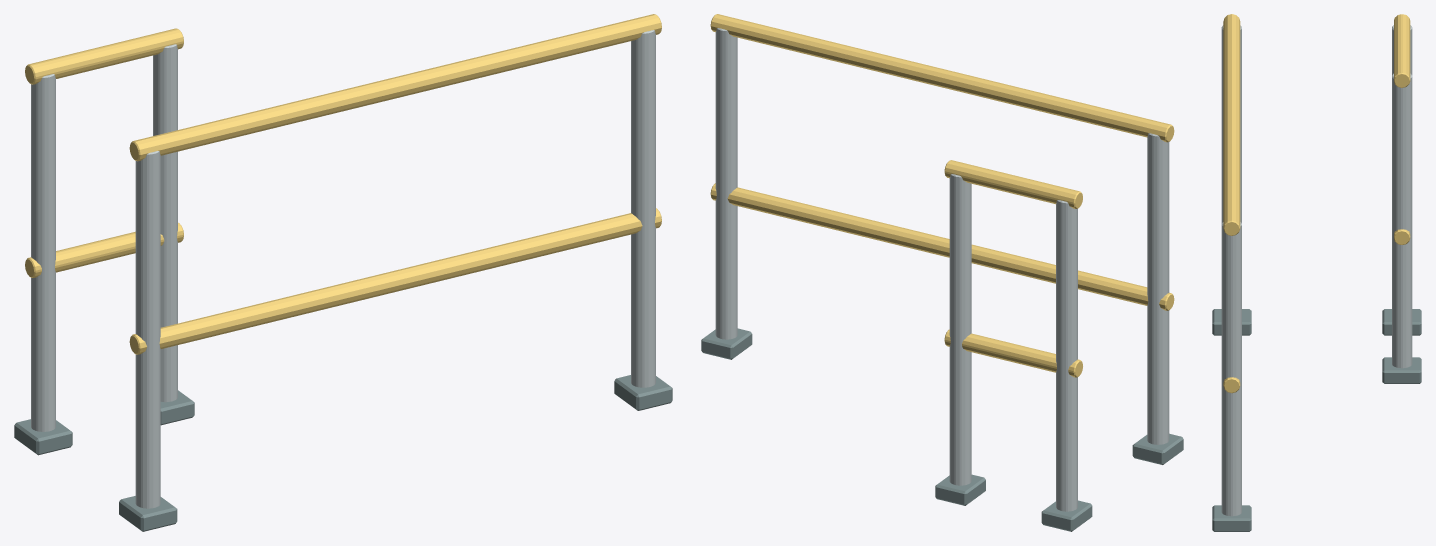
Rendered from Structure-SewerGuardrail.fbx.
3 renders of one model, left to right at view 1: azimuth 30°, elevation 25°; view 2: azimuth 150°, elevation 25°; view 3: azimuth 270°, elevation 25°, orthographic. The views are drawn at different scales.
Visible parts, largest first — view 1: Horizontal Rail.001, Horizontal Rail, Rail Post, Rail Post.002, Rail Post.001, Rail Post.003, Horizontal Rail.003, Horizontal Rail.002, Base Shoe, Base Shoe.001, Base Shoe.002, Base Shoe.003; view 2: Horizontal Rail.001, Horizontal Rail, Rail Post.003, Rail Post.001, Rail Post, Rail Post.002, Horizontal Rail.003, Horizontal Rail.002, Base Shoe.001, Base Shoe, Base Shoe.002, Base Shoe.003; view 3: Rail Post.003, Rail Post.001, Horizontal Rail.001, Horizontal Rail.003, Rail Post, Base Shoe.003, Base Shoe.001, Base Shoe.002, Base Shoe.
Boxes of the visible parts, left/top/right/bottom form: Horizontal Rail.001: left=129, top=14, right=661, bottom=161; Horizontal Rail: left=129, top=208, right=661, bottom=354; Rail Post: left=135, top=151, right=160, bottom=508; Rail Post.002: left=31, top=74, right=55, bottom=431; Rail Post.001: left=631, top=30, right=655, bottom=387; Rail Post.003: left=153, top=44, right=177, bottom=402; Horizontal Rail.003: left=25, top=28, right=183, bottom=84; Horizontal Rail.002: left=25, top=222, right=183, bottom=277; Base Shoe: left=119, top=496, right=177, bottom=531; Base Shoe.001: left=614, top=375, right=672, bottom=410; Base Shoe.002: left=14, top=419, right=72, bottom=455; Base Shoe.003: left=160, top=390, right=194, bottom=425; Horizontal Rail.001: left=710, top=14, right=1174, bottom=142; Horizontal Rail: left=710, top=183, right=1174, bottom=310; Rail Post.003: left=949, top=174, right=971, bottom=485; Rail Post.001: left=715, top=28, right=737, bottom=339; Rail Post: left=1147, top=133, right=1169, bottom=444; Rail Post.002: left=1056, top=200, right=1077, bottom=511; Horizontal Rail.003: left=944, top=160, right=1082, bottom=208; Horizontal Rail.002: left=944, top=329, right=1082, bottom=377; Base Shoe.001: left=701, top=328, right=752, bottom=359; Base Shoe: left=1132, top=433, right=1183, bottom=464; Base Shoe.002: left=1041, top=500, right=1092, bottom=531; Base Shoe.003: left=935, top=474, right=985, bottom=505; Rail Post.003: left=1392, top=73, right=1412, bottom=368; Rail Post.001: left=1221, top=222, right=1241, bottom=516; Horizontal Rail.001: left=1223, top=14, right=1240, bottom=235; Horizontal Rail.003: left=1394, top=14, right=1410, bottom=87; Rail Post: left=1221, top=25, right=1241, bottom=223; Base Shoe.003: left=1382, top=357, right=1421, bottom=383; Base Shoe.001: left=1212, top=505, right=1251, bottom=531; Base Shoe.002: left=1382, top=309, right=1421, bottom=335; Base Shoe: left=1212, top=309, right=1251, bottom=335.
Bounding box in the file's own units: 1.53 × 1.05 × 0.64.
